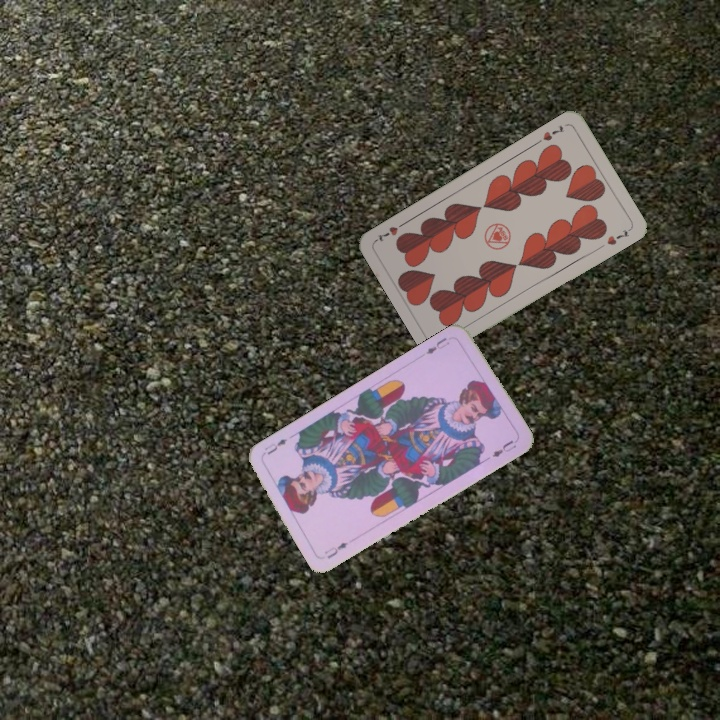EU: (422, 333, 452, 357), (320, 538, 350, 561)
H7: (532, 121, 567, 147)
